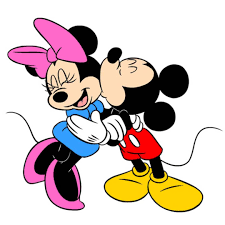mickey: (66, 47, 204, 213)
